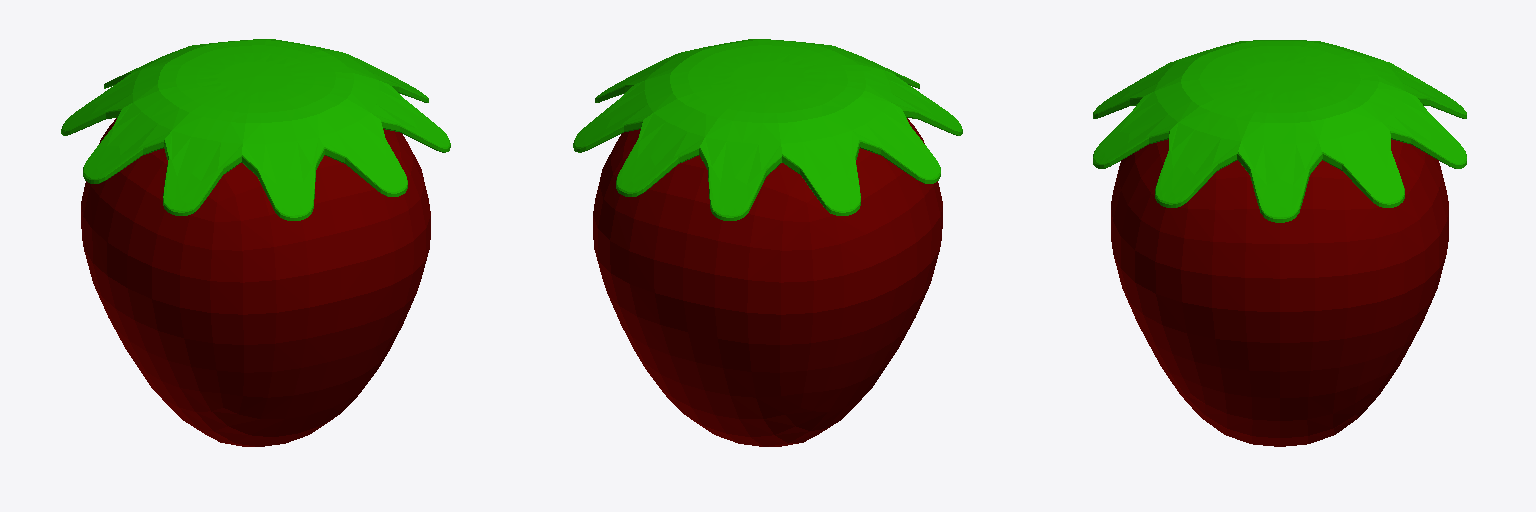
The model's file is Strawberry.obj.
3 renders of one model, left to right at view 1: azimuth 30°, elevation 25°; view 2: azimuth 150°, elevation 25°; view 3: azimuth 270°, elevation 25°, orthographic.
Parts seen in each view (by area): view 1: Strawberry_Cylinder.001; view 2: Strawberry_Cylinder.001; view 3: Strawberry_Cylinder.001.
Part boxes in pixels (x1,y1,x2,y2): Strawberry_Cylinder.001: (61, 39, 450, 446); Strawberry_Cylinder.001: (573, 39, 962, 446); Strawberry_Cylinder.001: (1093, 40, 1466, 446).
Size of the model in its own units: 2.14 by 2.17 by 2.05.